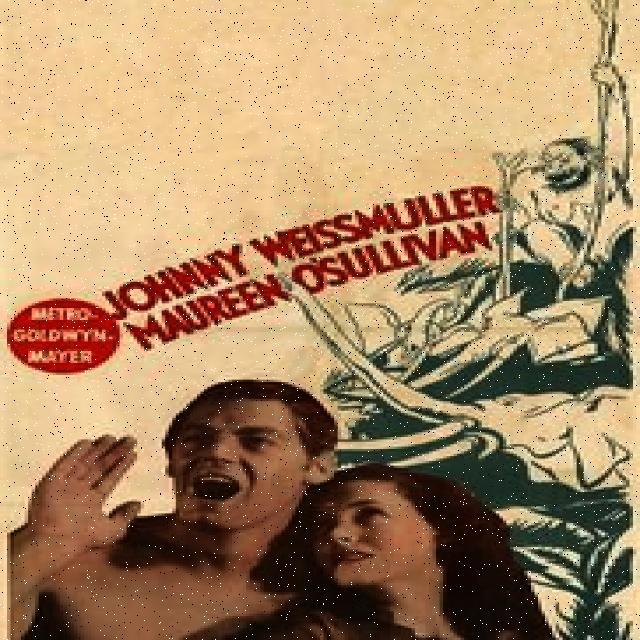movie-judul: (9, 154, 496, 389)
picture: (2, 0, 640, 639)
